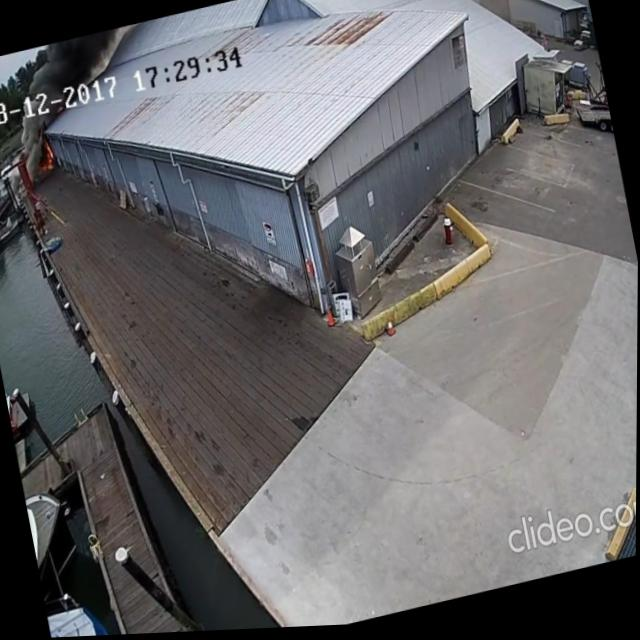fire: (35, 138, 57, 174)
